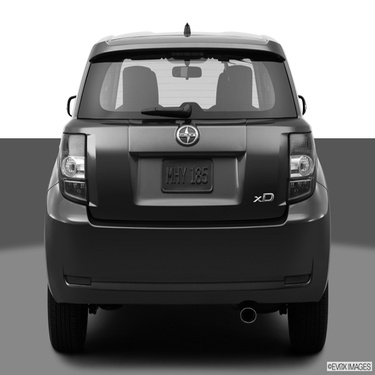car: (14, 14, 343, 357)
